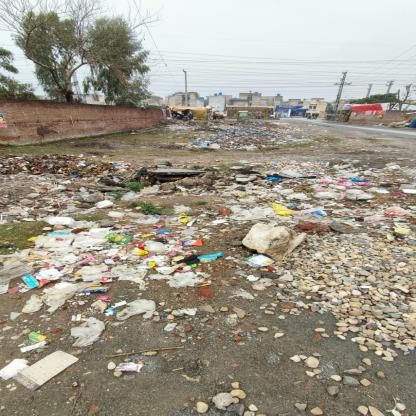Garbage: (9, 143, 416, 348), (280, 204, 287, 213)
